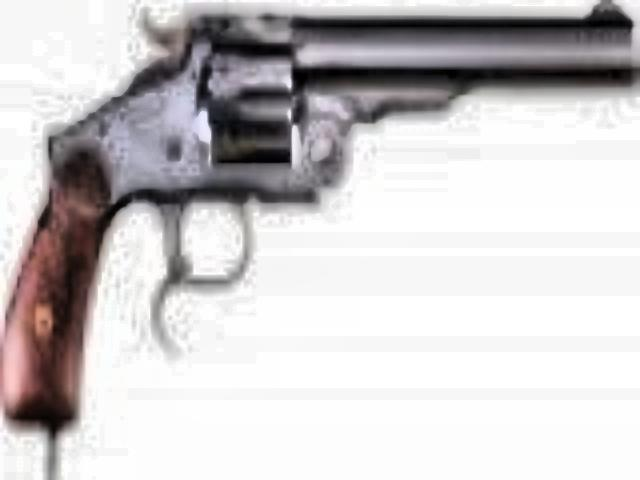pistol: (0, 0, 624, 424)
